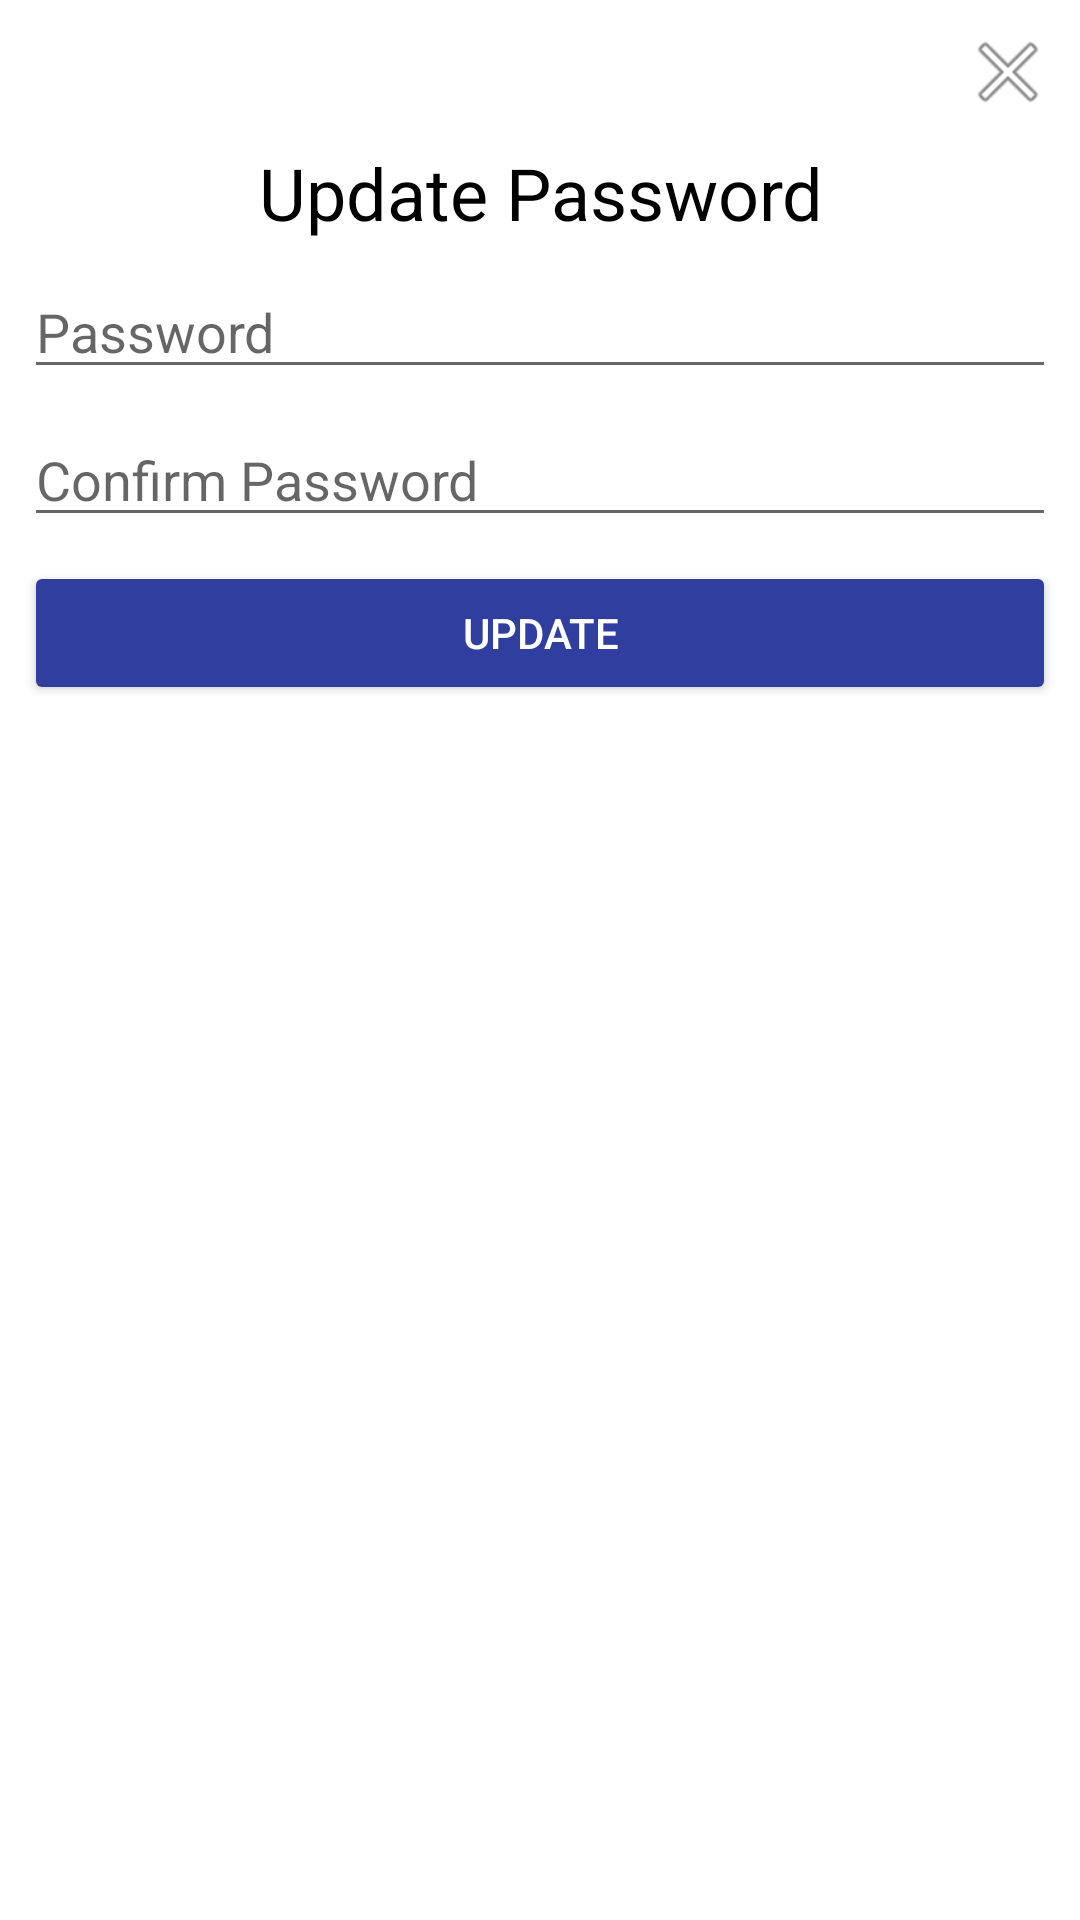

Point at icon controls on the screen. Image size 1080w x 1920h, points as [x,y].
close clear cancel: [1008,72]
